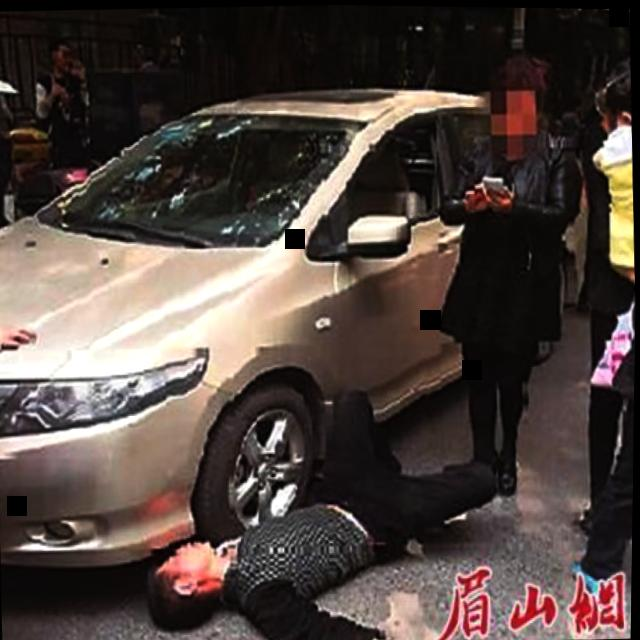Fall-Detected: (138, 351, 521, 640)
